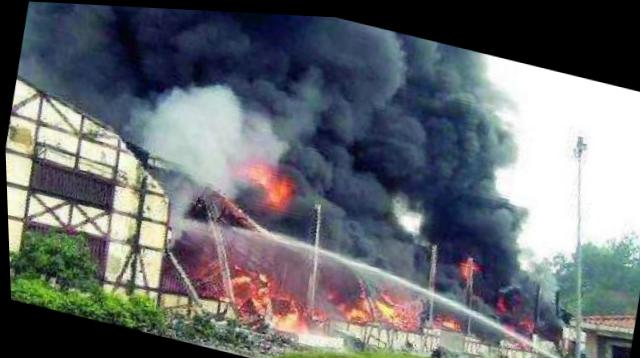fire: (256, 169, 295, 208), (238, 155, 275, 185), (266, 304, 304, 329), (250, 280, 274, 308), (456, 249, 479, 271), (373, 296, 394, 318), (340, 299, 365, 317), (225, 264, 250, 282), (437, 309, 457, 324), (252, 262, 269, 279)
